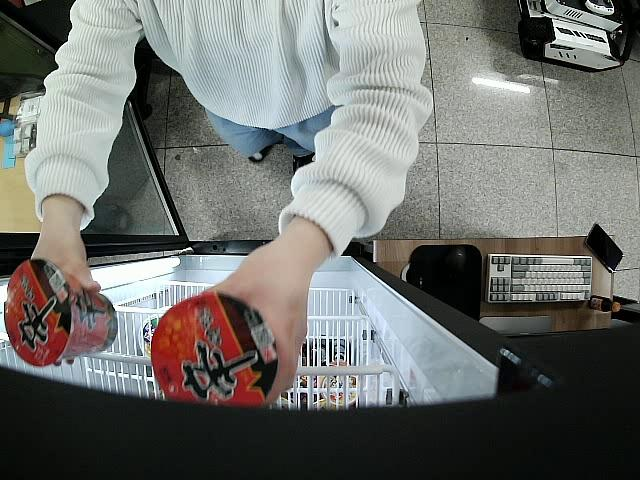00_hand: (199, 234, 320, 404), (29, 225, 101, 291)
02_shinRamen_S: (149, 291, 279, 407), (4, 258, 119, 367)
